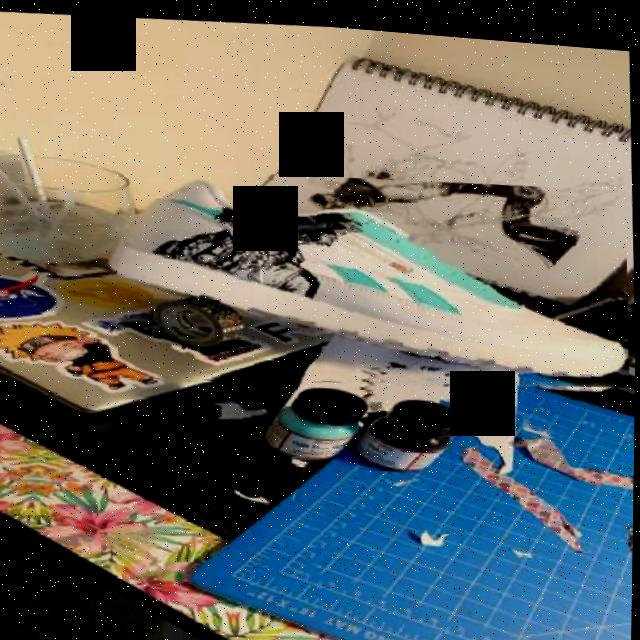shoe: (94, 146, 632, 410)
